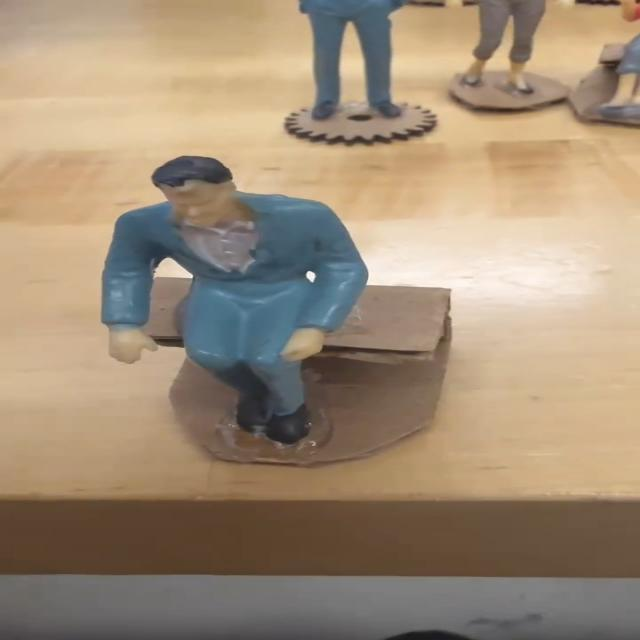Authorized: (36, 131, 447, 465)
